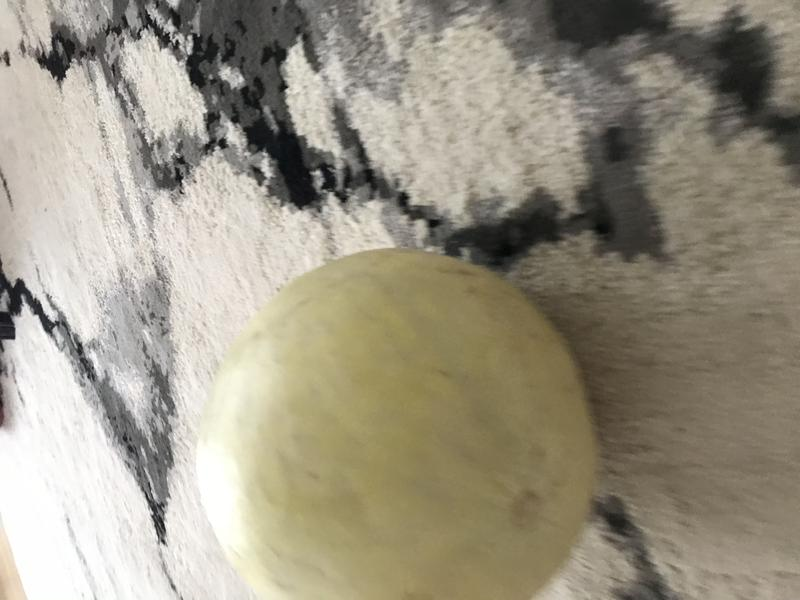honeydew: (182, 235, 617, 600)
